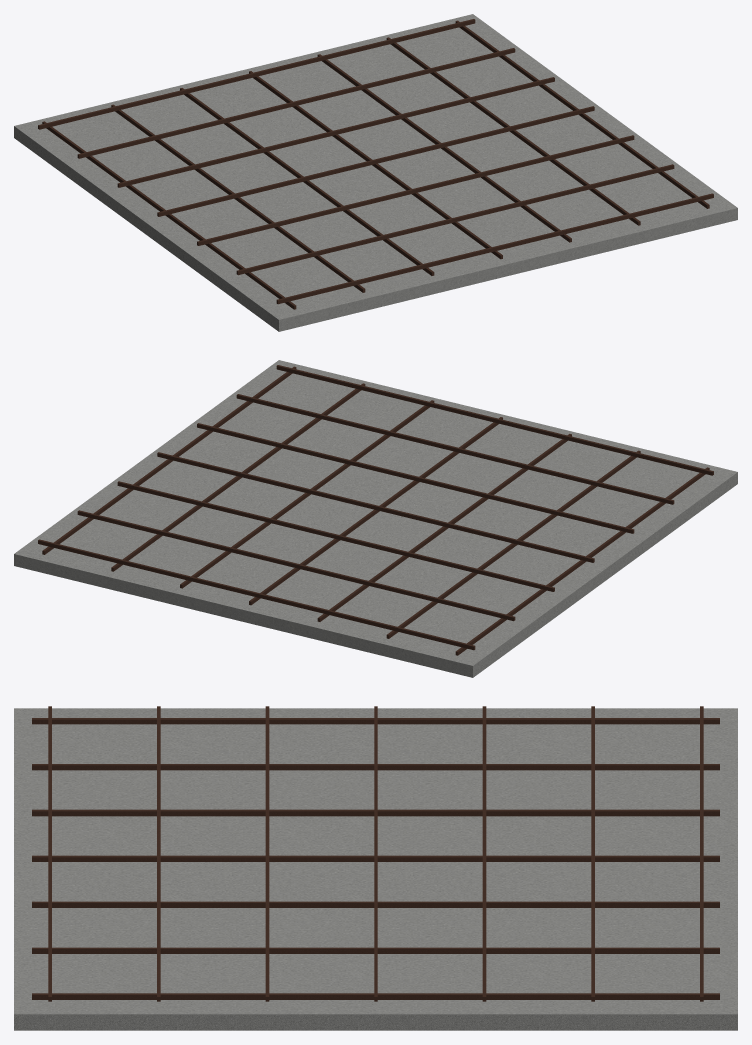
File: estate_floor_1b.glb
The picture shows the model from 3 angles, top to bottom: view 1: azimuth 30°, elevation 25°; view 2: azimuth 150°, elevation 25°; view 3: azimuth 270°, elevation 25°; orthographic projection. The views are drawn at different scales.
Visible parts, largest first — view 1: Cube, Cube.004, Cube.006, Cube.012, Cube.008, Cube.010, Cube.002, Cube.014, Cube.005, Cube.011, Cube.013, Cube.001 (+3 smaller); view 2: Cube, Cube.012, Cube.004, Cube.010, Cube.008, Cube.006, Cube.002, Cube.014, Cube.005, Cube.011, Cube.013, Cube.001 (+3 smaller); view 3: Cube, Cube.005, Cube.013, Cube.001, Cube.003, Cube.007, Cube.009, Cube.011, Cube.006, Cube.010, Cube.002, Cube.004 (+3 smaller).
Part boxes in pixels (x1,y1,x2,y2): Cube: (14, 14, 737, 331); Cube.004: (236, 164, 674, 275); Cube.006: (197, 135, 634, 245); Cube.012: (77, 48, 515, 158); Cube.008: (157, 106, 594, 216); Cube.010: (117, 77, 554, 187); Cube.002: (276, 193, 713, 304); Cube.014: (38, 19, 475, 129); Cube.005: (180, 88, 434, 275); Cube.011: (386, 37, 640, 225); Cube.013: (455, 20, 709, 208); Cube.001: (42, 121, 296, 309); Cube: (14, 360, 737, 677); Cube.012: (77, 510, 515, 621); Cube.004: (236, 394, 674, 504); Cube.010: (117, 481, 554, 591); Cube.008: (157, 452, 594, 562); Cube.006: (197, 423, 634, 533); Cube.002: (276, 365, 713, 475); Cube.014: (38, 539, 475, 650); Cube.005: (317, 434, 571, 621); Cube.011: (111, 383, 365, 571); Cube.013: (42, 366, 296, 554); Cube.001: (455, 467, 709, 655); Cube: (14, 708, 737, 1030); Cube.005: (32, 809, 719, 816); Cube.013: (32, 993, 719, 999); Cube.001: (32, 718, 719, 724); Cube.003: (32, 764, 719, 770); Cube.007: (32, 855, 719, 861); Cube.009: (32, 901, 719, 907); Cube.011: (32, 947, 719, 953); Cube.006: (265, 706, 269, 1001); Cube.010: (482, 706, 486, 1001); Cube.002: (48, 706, 51, 1001); Cube.004: (157, 706, 160, 1001).
Size of the model in its own units: 4 by 0.16 by 4.
Materials: 2 (2 with a texture image).
